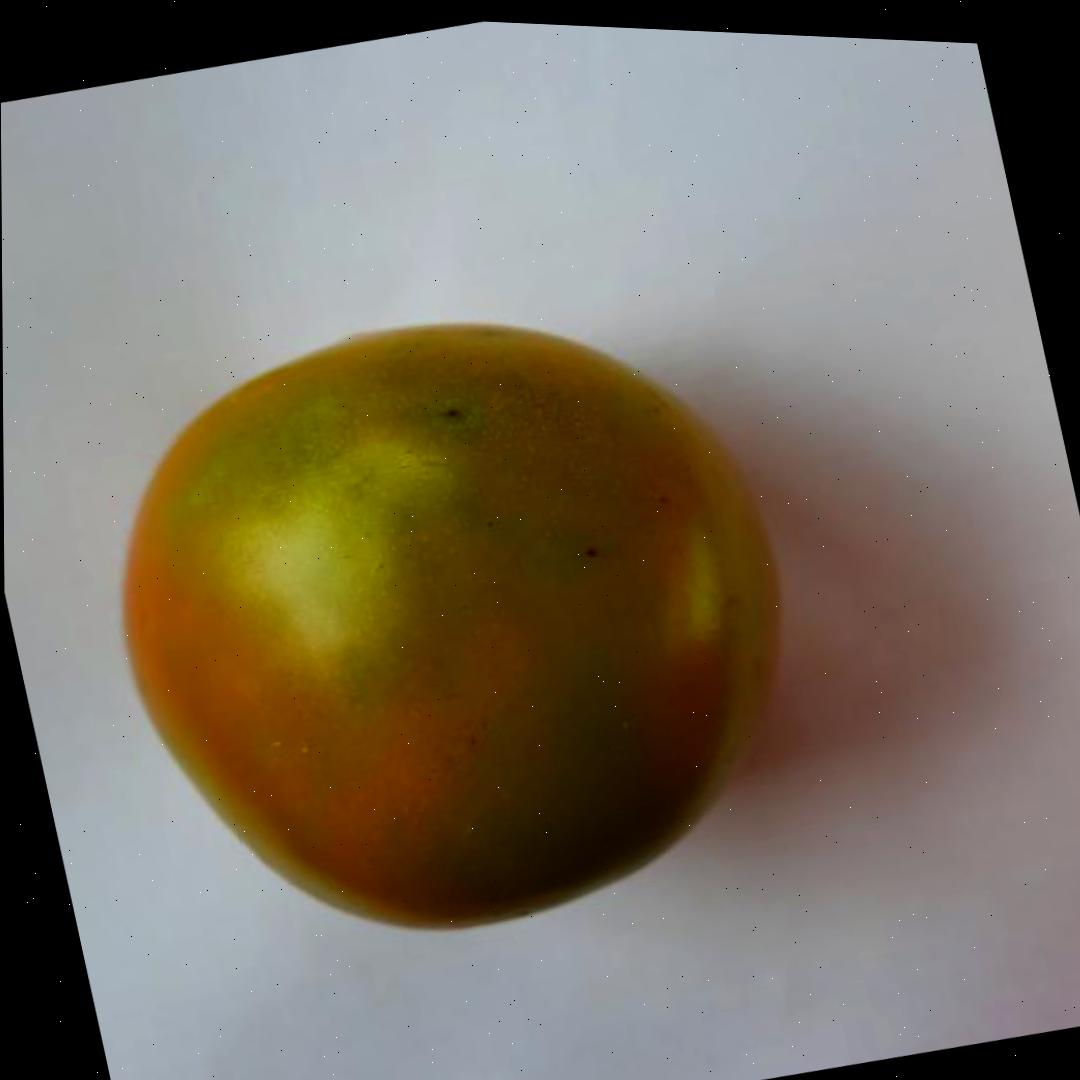setengah_matang: (55, 229, 860, 1010)
